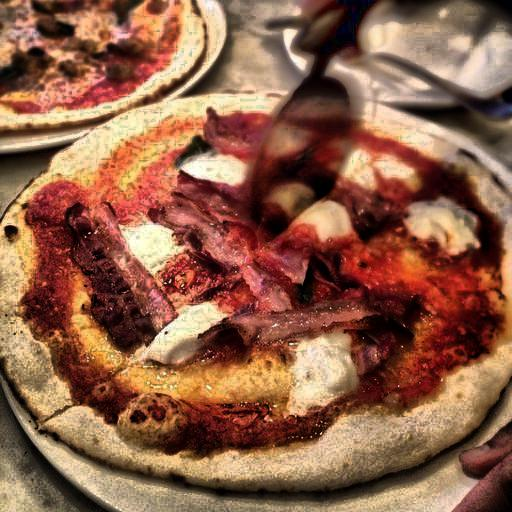pizza: (15, 81, 512, 482)
